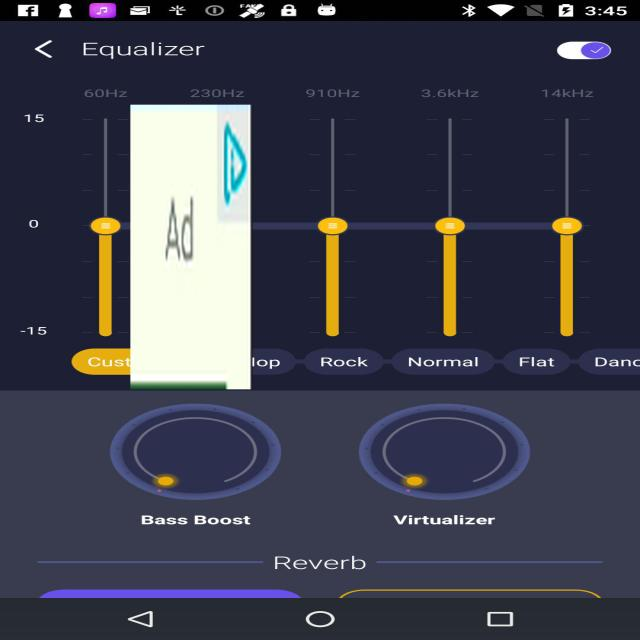sneaking: (130, 105, 252, 389)
